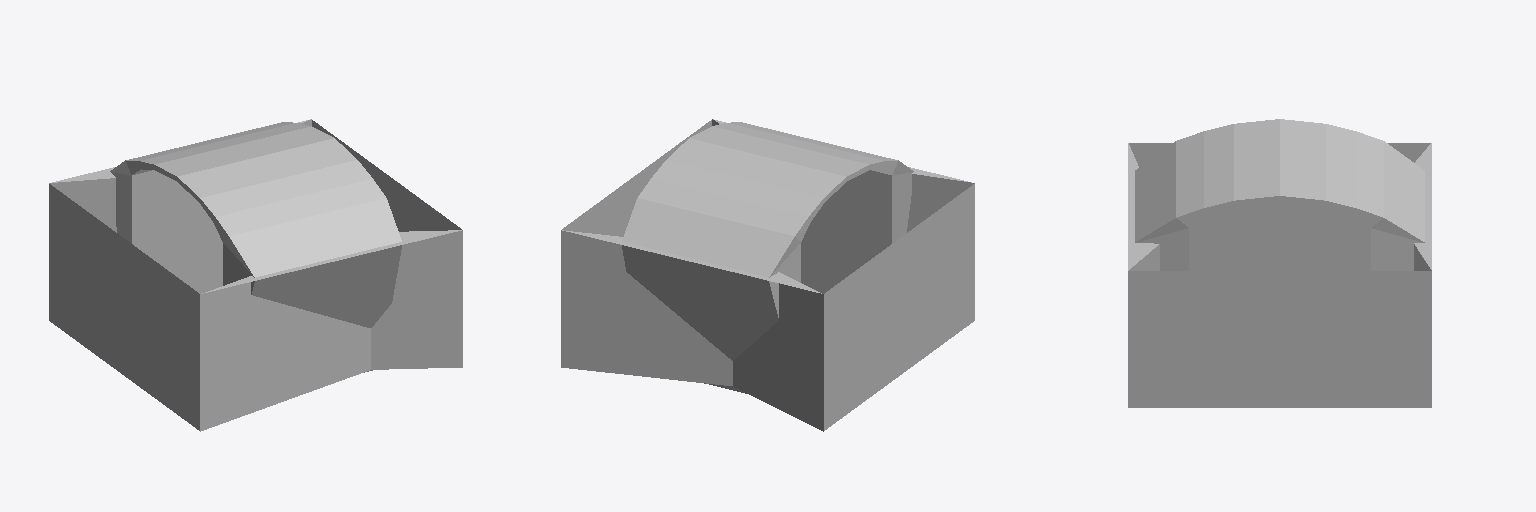
The model's file is BridgePreiew.obj.
3 renders of one model, left to right at view 1: azimuth 30°, elevation 25°; view 2: azimuth 150°, elevation 25°; view 3: azimuth 270°, elevation 25°, orthographic.
Visible parts, largest first — view 1: Plane; view 2: Plane; view 3: Plane.
Part boxes in pixels (x1,y1,x2,y2): Plane: (49,119,462,431); Plane: (561,119,974,431); Plane: (1128,119,1431,407).
Size of the model in its own units: 4 by 2.87 by 4.